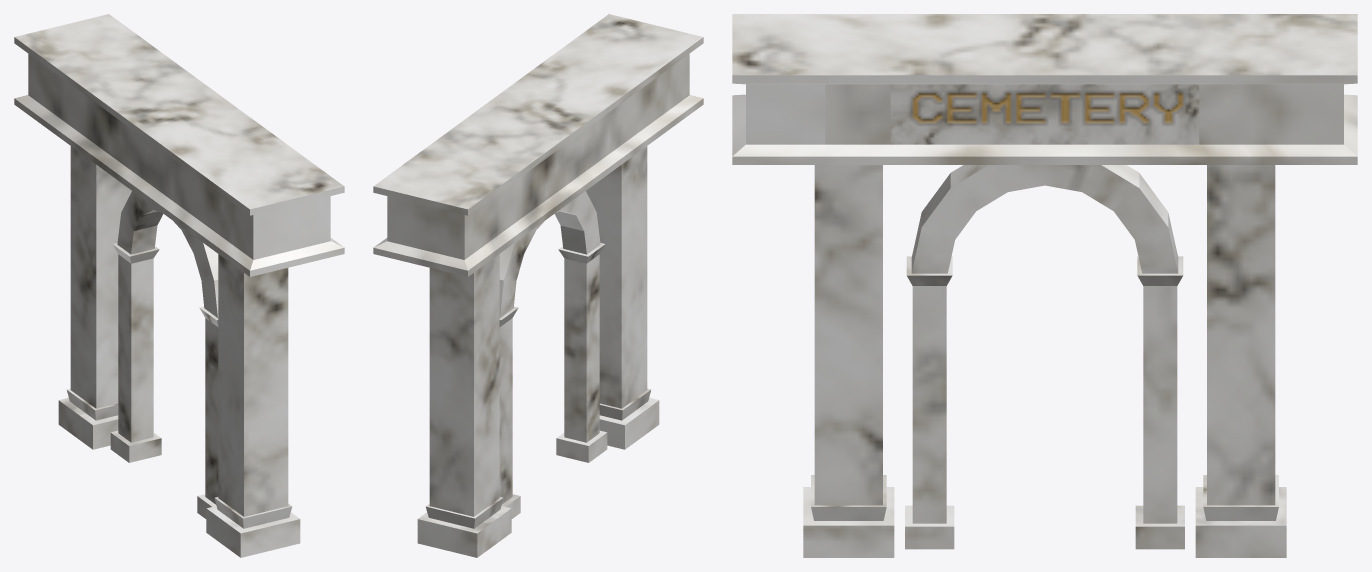
Rendered from Graveyard Archway.fbx.
3 views of the same model, side by side, from view 1: azimuth 30°, elevation 25°; view 2: azimuth 150°, elevation 25°; view 3: azimuth 270°, elevation 25° (orthographic). The views are drawn at different scales.
Visible parts, largest first — view 1: Entryway; view 2: Entryway; view 3: Entryway.
Boxes of the visible parts, left/top/right/bottom form: Entryway: left=14, top=14, right=344, bottom=557; Entryway: left=373, top=14, right=703, bottom=557; Entryway: left=732, top=14, right=1357, bottom=557.
Size of the model in its own units: 170 by 640 by 734.
